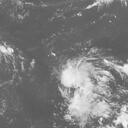cyclone: (59, 62, 105, 100)
